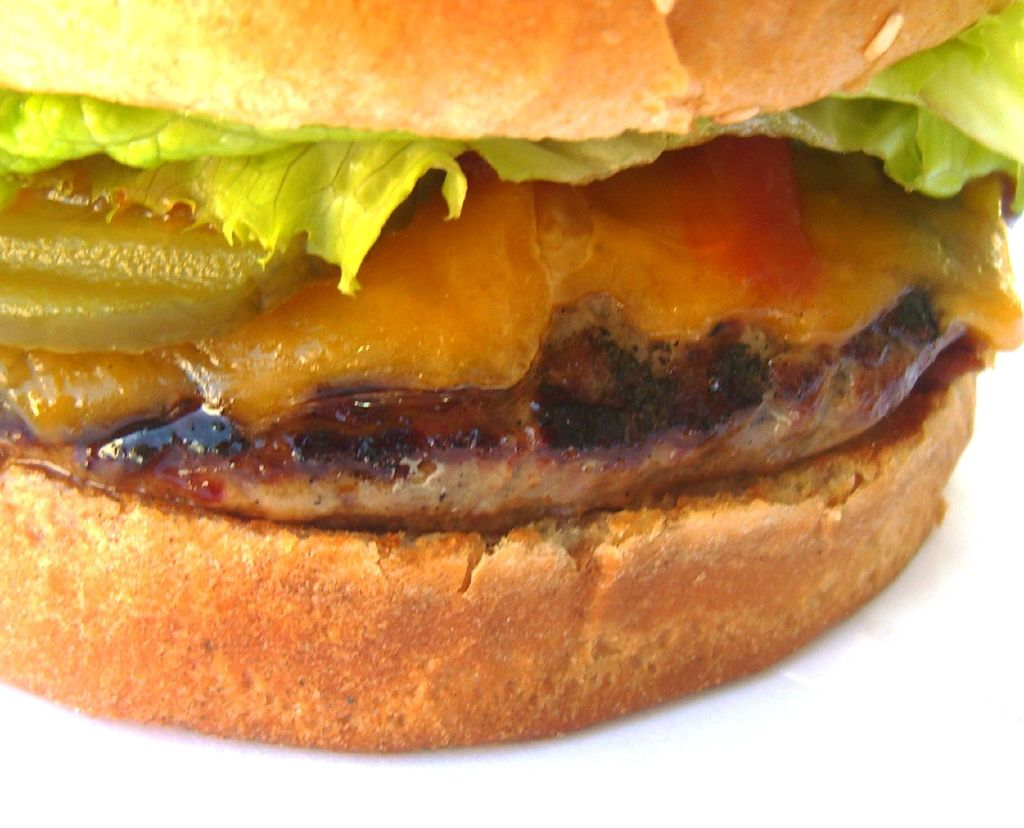Hamburger: (0, 0, 1020, 760)
